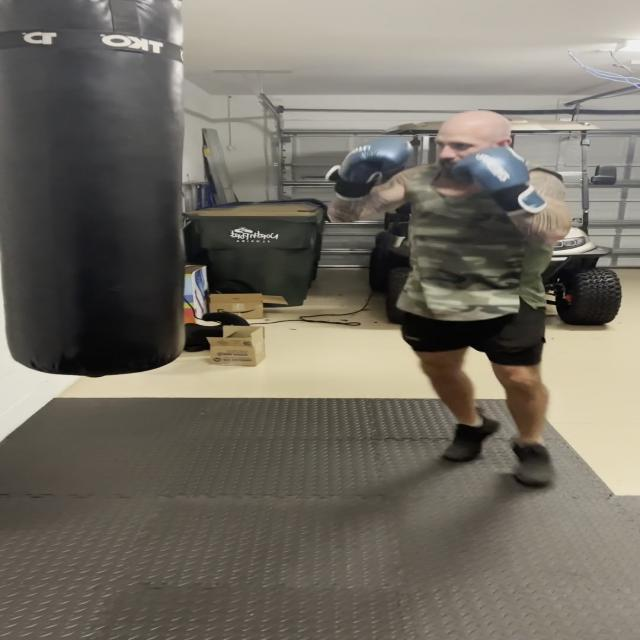bag: (0, 0, 198, 383)
no punch: (304, 102, 582, 250)
